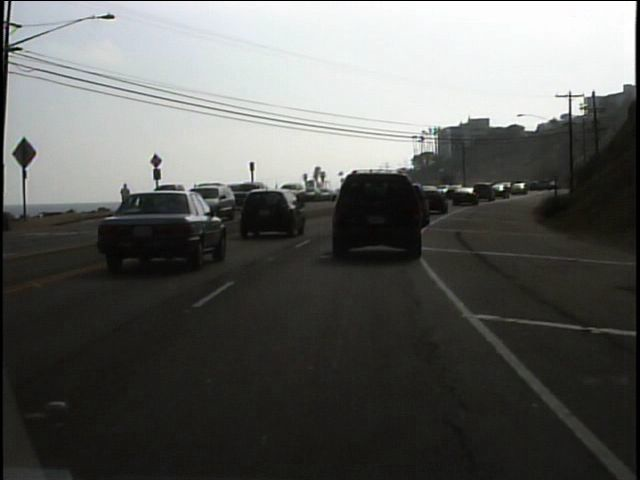person: (118, 180, 135, 215)
